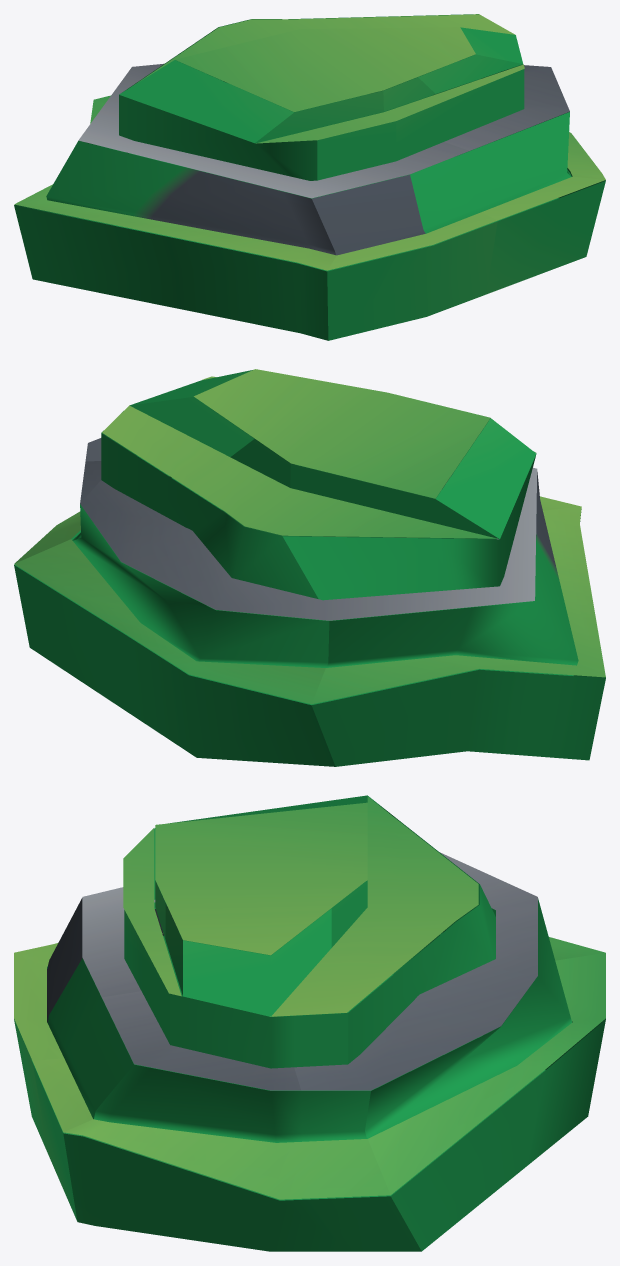
The model's file is middle mountains.fbx.
3 views of the same model, one above another, from view 1: azimuth 30°, elevation 25°; view 2: azimuth 150°, elevation 25°; view 3: azimuth 270°, elevation 25° (orthographic). The views are drawn at different scales.
Parts seen in each view (by area): view 1: pCube19.001, pCube19.002, pCube19, pCube19.006, pCube19.004, pCube19.003, pCube19.005; view 2: pCube19.001, pCube19, pCube19.002, pCube19.006, pCube19.003, pCube19.004, pCube19.005; view 3: pCube19.001, pCube19.002, pCube19.003, pCube19, pCube19.004, pCube19.006, pCube19.005.
Boxes of the visible parts, x1,y1,x2,y2 form: pCube19.001: (14,83,605,340); pCube19.002: (46,61,571,255); pCube19: (119,14,524,180); pCube19.006: (175,27,475,111); pCube19.004: (78,60,569,198); pCube19.003: (14,95,605,270); pCube19.005: (133,14,524,143); pCube19.001: (14,464,605,766); pCube19: (101,370,536,600); pCube19.002: (72,436,578,667); pCube19.006: (194,369,490,498); pCube19.003: (14,496,605,704); pCube19.004: (80,438,537,620); pCube19.005: (102,376,535,538); pCube19.001: (14,881,605,1251); pCube19.002: (47,898,571,1142); pCube19.003: (14,933,605,1199); pCube19: (124,795,495,1068); pCube19.004: (82,852,537,1090); pCube19.006: (155,802,367,955); pCube19.005: (123,796,478,1016).
Bounding box in the file's own units: 2166 × 788 × 1698.
